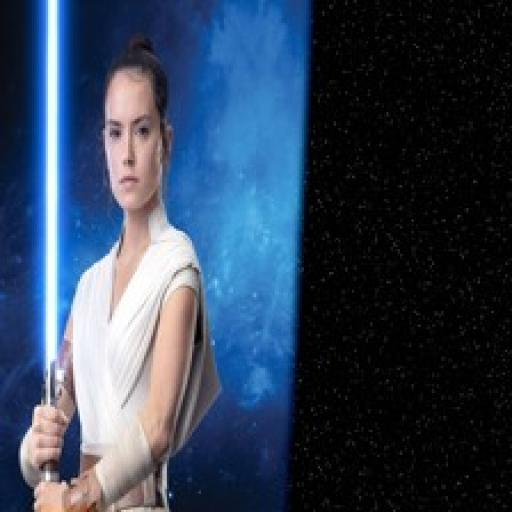human: (11, 33, 209, 512)
lightsaber: (39, 0, 64, 510)
